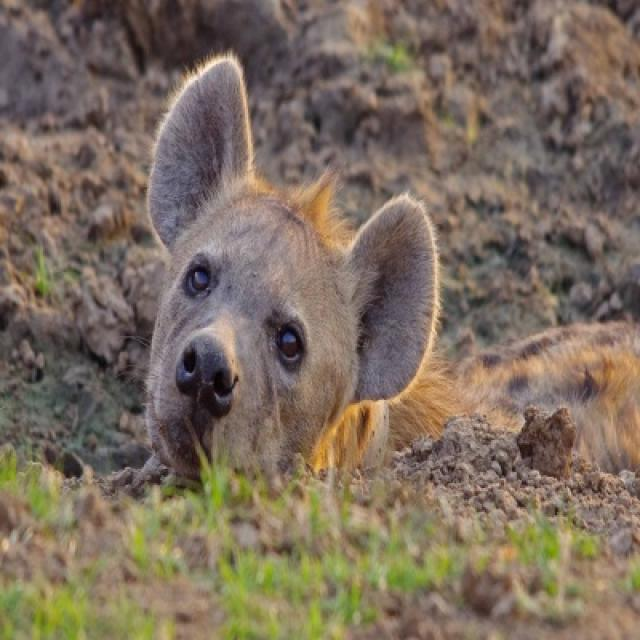hyena: (142, 54, 638, 496)
